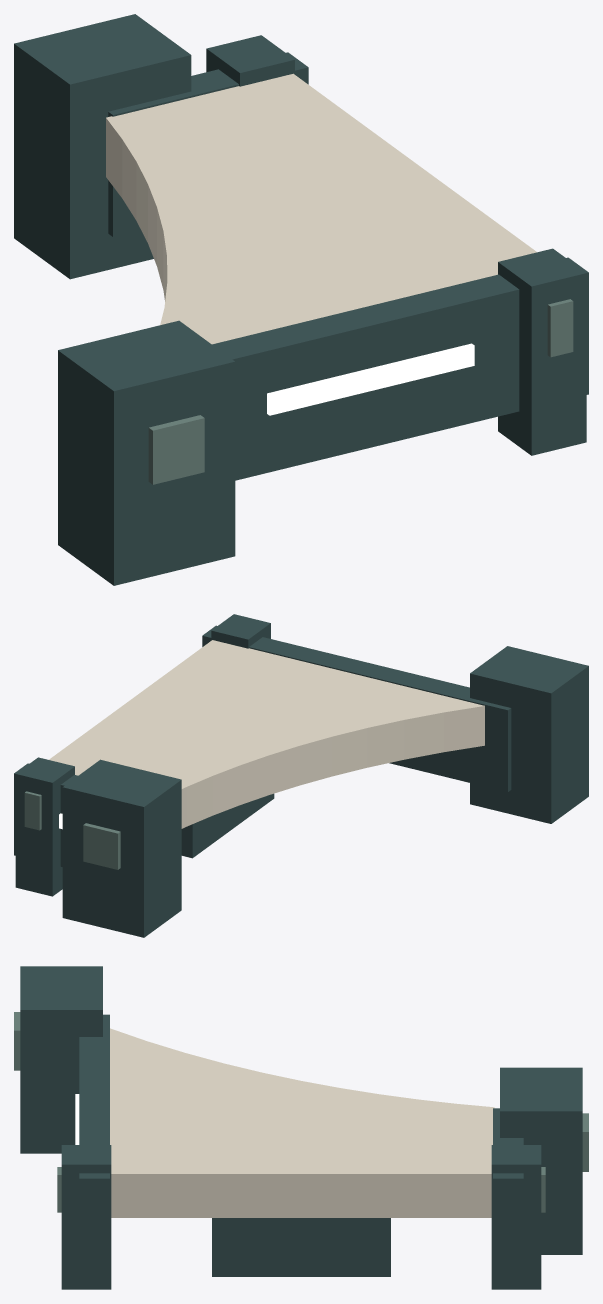
File: Pier_Angled_25_lab.glb
The picture shows the model from 3 angles, top to bottom: view 1: azimuth 30°, elevation 25°; view 2: azimuth 150°, elevation 25°; view 3: azimuth 270°, elevation 25°; orthographic projection. The views are drawn at different scales.
Parts seen in each view (by area): view 1: Pier_Angled_25; view 2: Pier_Angled_25; view 3: Pier_Angled_25.
Boxes of the visible parts, x1=… form: Pier_Angled_25: x1=14, y1=14, x2=588, y2=585; Pier_Angled_25: x1=14, y1=614, x2=588, y2=937; Pier_Angled_25: x1=14, y1=966, x2=588, y2=1289.
Bounding box in the file's own units: 3.18 × 1.15 × 4.17.
